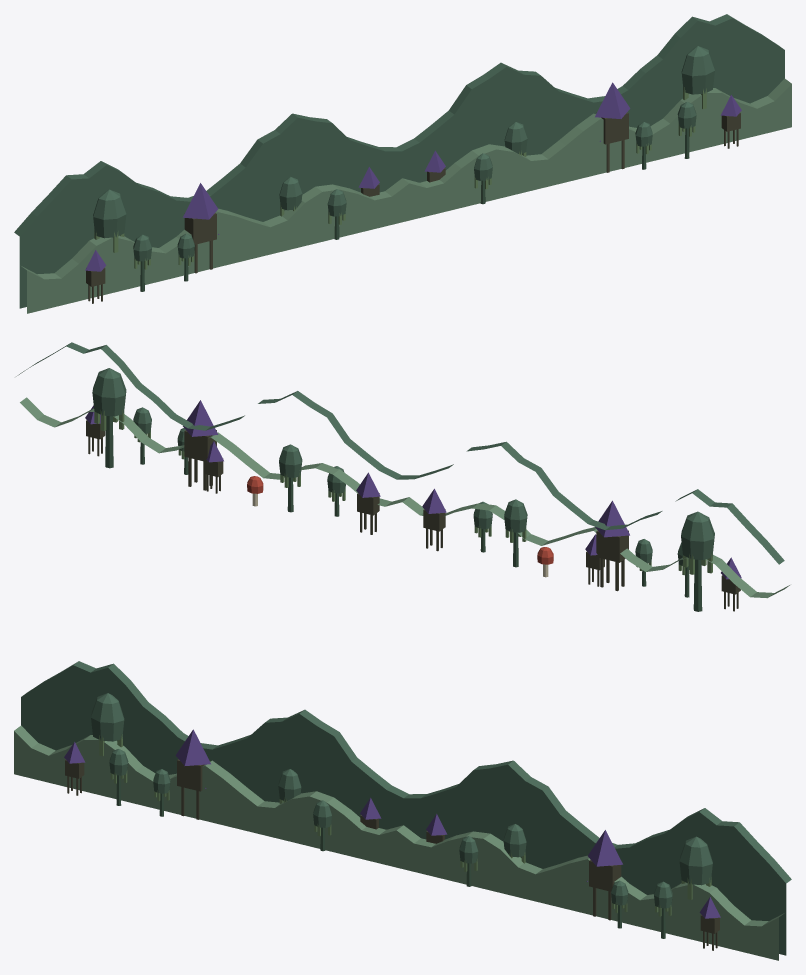
Rendered from backdrop_swamp.glb.
3 renders of one model, top to bottom at view 1: azimuth 30°, elevation 25°; view 2: azimuth 150°, elevation 25°; view 3: azimuth 330°, elevation 25°, orthographic.
Visible parts, largest first — view 1: backdrop_swamp; view 2: backdrop_swamp; view 3: backdrop_swamp.
Part boxes in pixels (x1,y1,x2,y2): backdrop_swamp: (14,14,791,313); backdrop_swamp: (16,342,789,611); backdrop_swamp: (14,661,791,960).
Size of the model in its own units: 260 by 40 by 14.
Materials: 1 (1 with a texture image).
